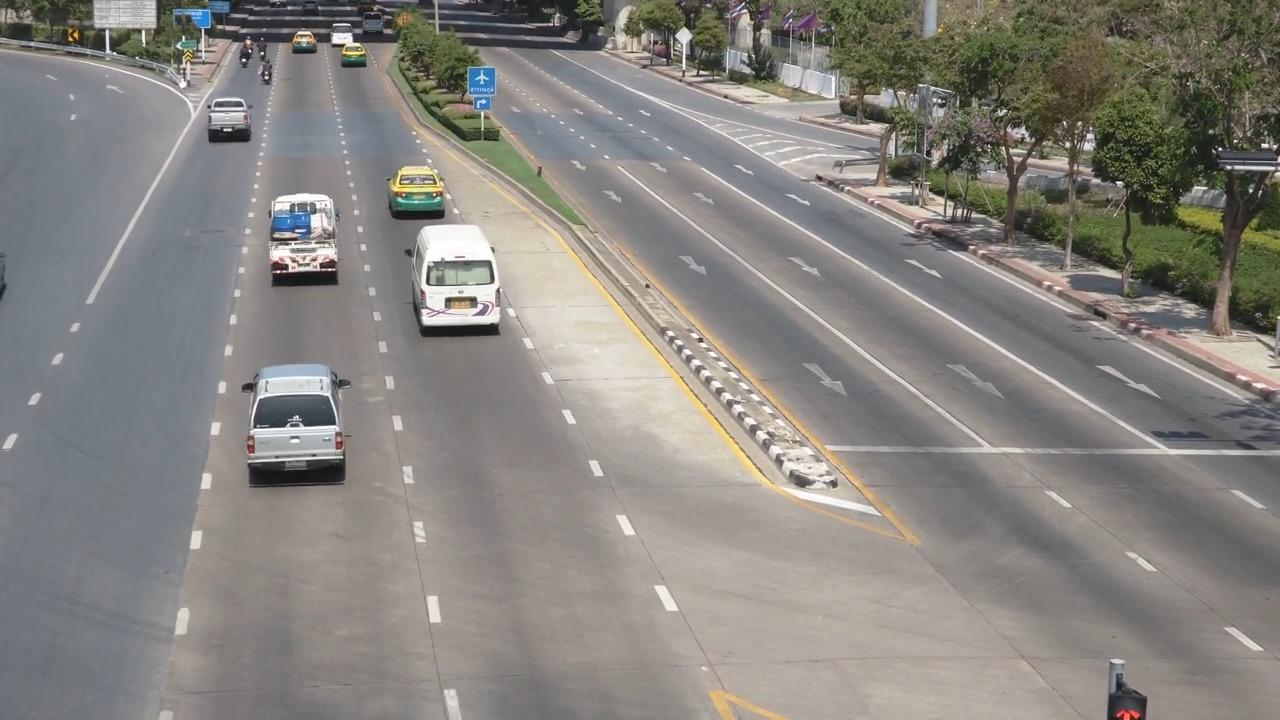CAR: (223, 346, 360, 504), (409, 219, 522, 346), (250, 182, 355, 297), (384, 152, 459, 222), (197, 91, 261, 158), (339, 44, 388, 91), (272, 26, 321, 71), (353, 12, 394, 52), (322, 26, 368, 58)
MOTOR: (225, 42, 254, 83), (250, 57, 283, 93)
